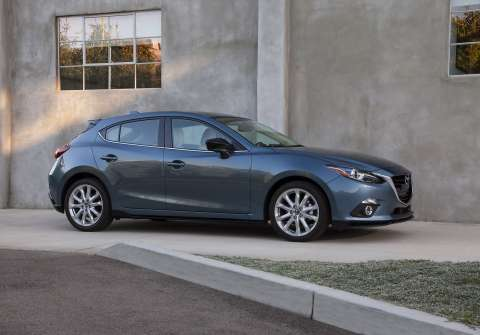Mazda3 Hatchback: (47, 106, 415, 245)
